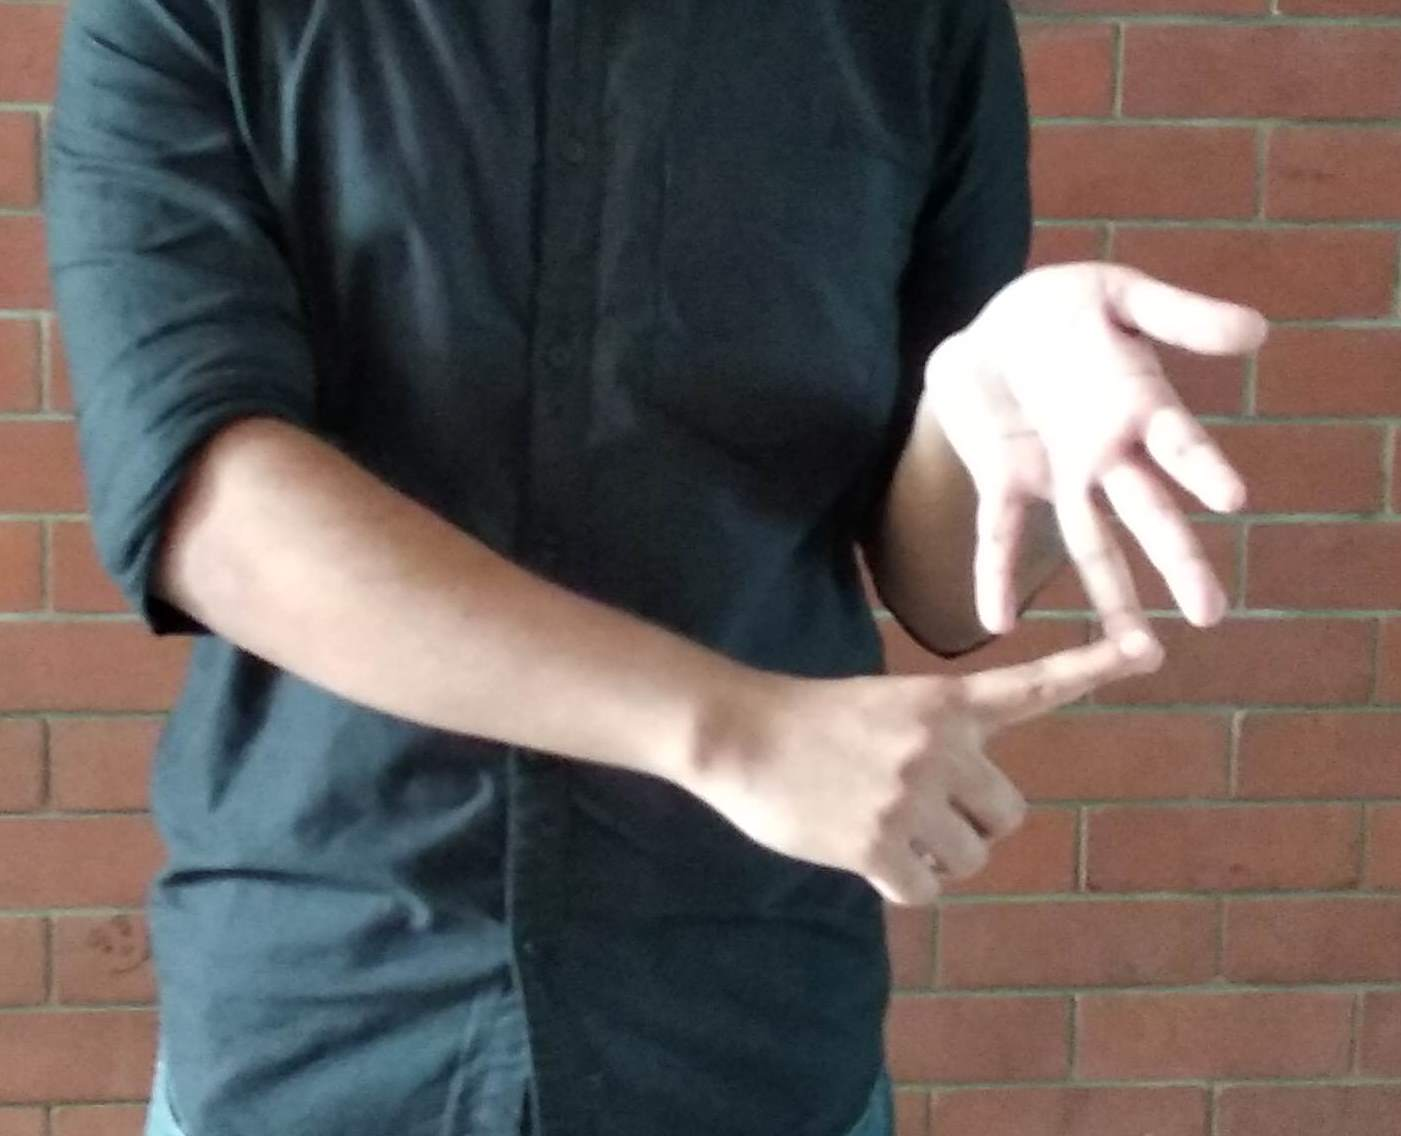e: (816, 252, 1232, 911)
